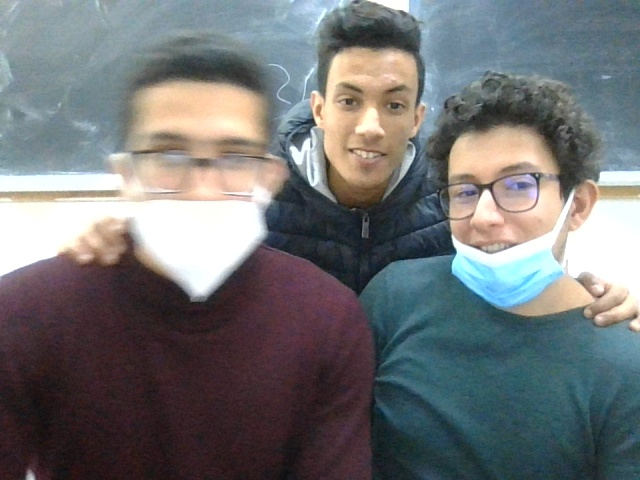mask_weared_incorrect: (430, 78, 607, 295)
without_mask: (308, 3, 425, 190)
